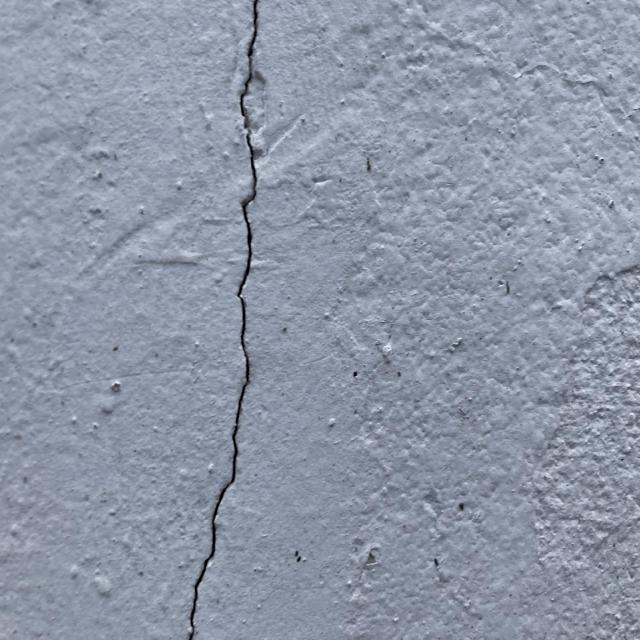SurfaceCrack: (152, 0, 309, 639)
